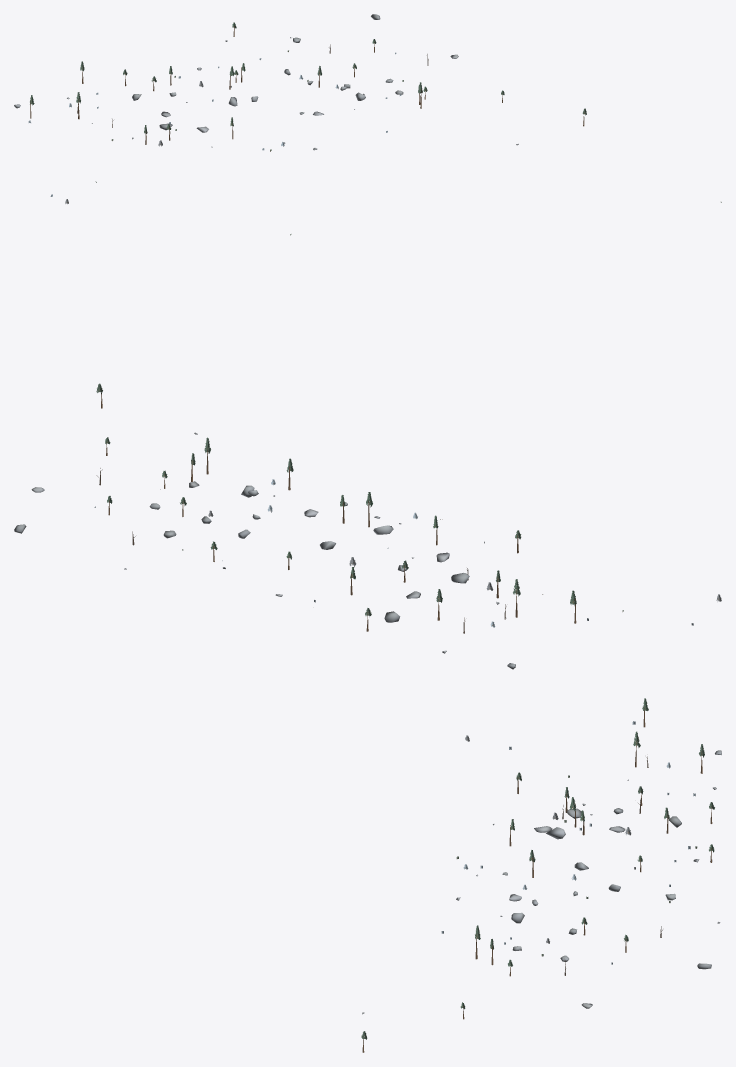
File: frost_land_scatter_c20_10_lod1.glb
The picture shows the model from 3 angles, top to bottom: view 1: azimuth 30°, elevation 25°; view 2: azimuth 150°, elevation 25°; view 3: azimuth 270°, elevation 25°; orthographic projection. The views are drawn at different scales.
Visible parts, largest first — view 1: frost_land_scatter_c20_10_lod1; view 2: frost_land_scatter_c20_10_lod1; view 3: frost_land_scatter_c20_10_lod1.
Part boxes in pixels (x1,y1,x2,y2): frost_land_scatter_c20_10_lod1: [14, 14, 721, 203]; frost_land_scatter_c20_10_lod1: [14, 234, 721, 669]; frost_land_scatter_c20_10_lod1: [361, 698, 721, 1052].
Size of the model in its own units: 252 by 34.37 by 249.
